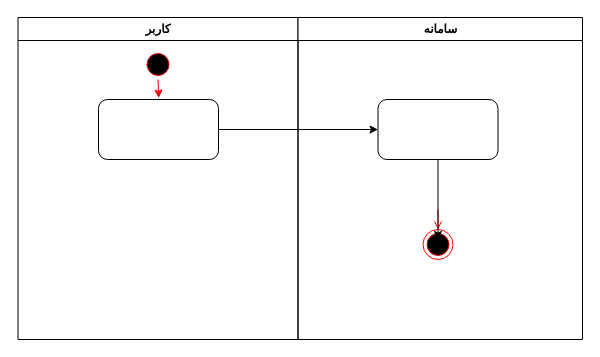
The diagram is 600 pixels wide and 357 high, and some of its shapes have lost their labels. Here are the shapes that lost their labels. From the top down, the box of each, then its label:
(98, 98, 218, 160): وارد کردن آدرس سایت در مرورگر
(377, 98, 498, 160): نمایش صفحه اصلی وب‌سایت
